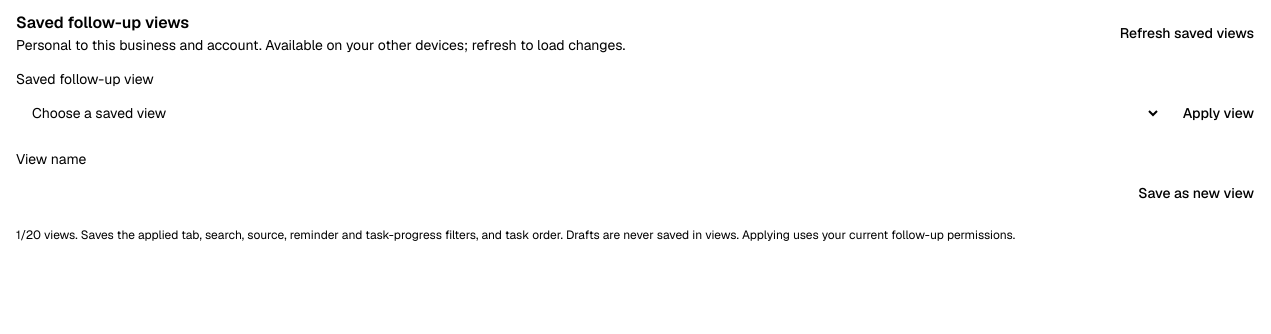
Test: normalizes rename values before sending and validates the canonical saved receipt
Select "My callbacks" in the dropdown labelled "Saved follow-up view" at coordinates (588, 113), box [16, 91, 1161, 135]
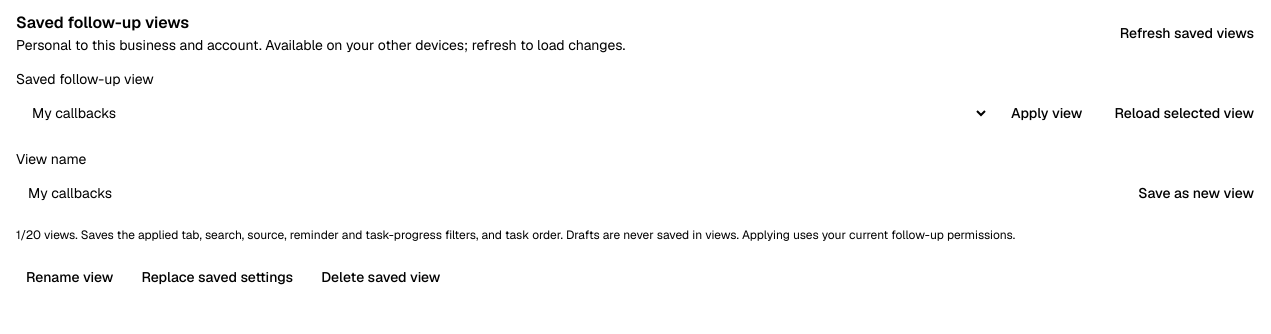
Replace the text in the field labelled "View name" with "  Morning   callbacks  " at coordinates (566, 193), box [16, 171, 1116, 215]
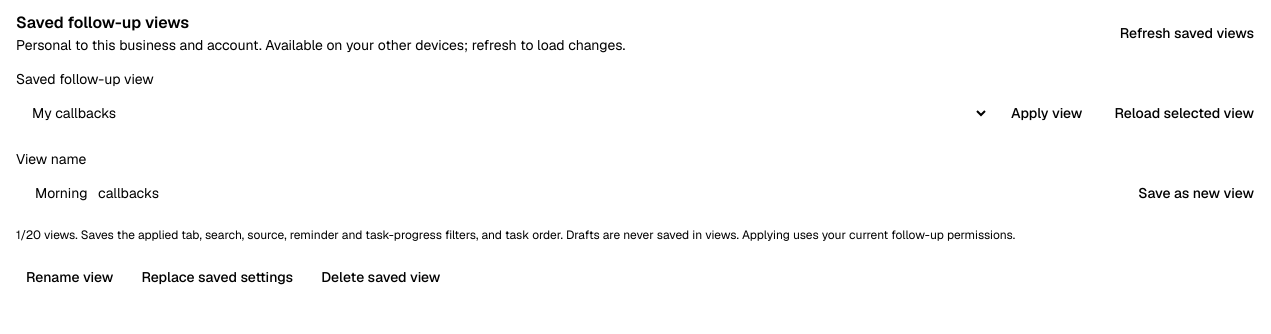
Click the button "Rename view" at coordinates (70, 277), box [16, 255, 123, 299]
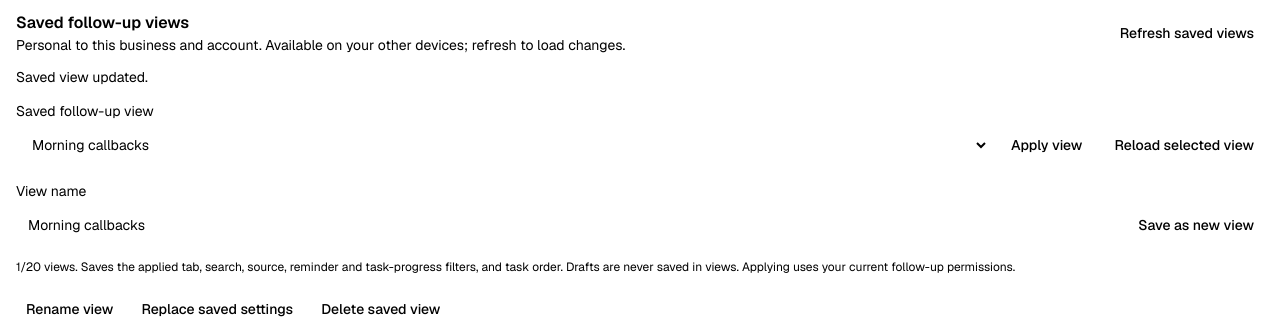
Check: the text "Saved view updated." is shown, box [16, 68, 148, 86]
